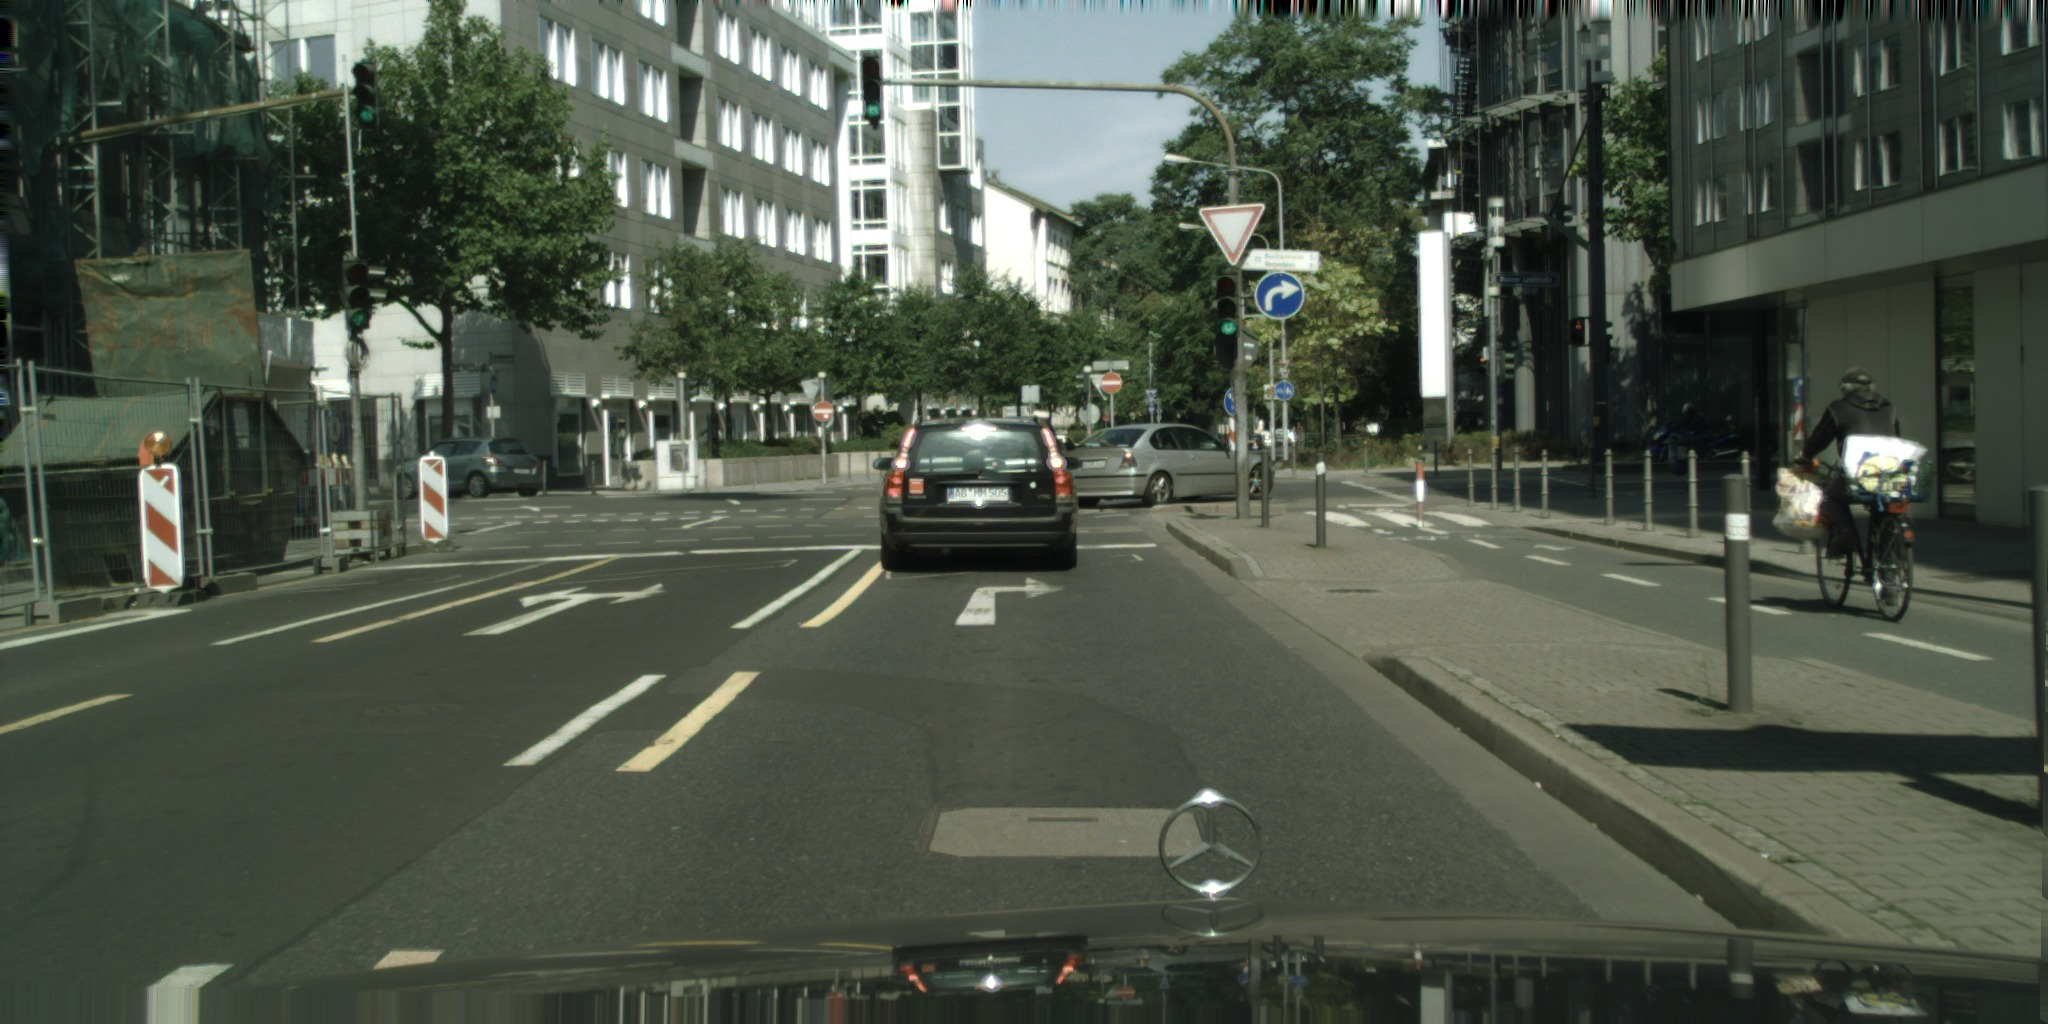bicycle: (1770, 434, 1936, 625)
car: (872, 416, 1081, 573), (1059, 423, 1276, 510), (395, 436, 543, 500)
motorcycle: (1646, 423, 1747, 464)
rider: (1794, 365, 1904, 571), (1682, 401, 1716, 457)
